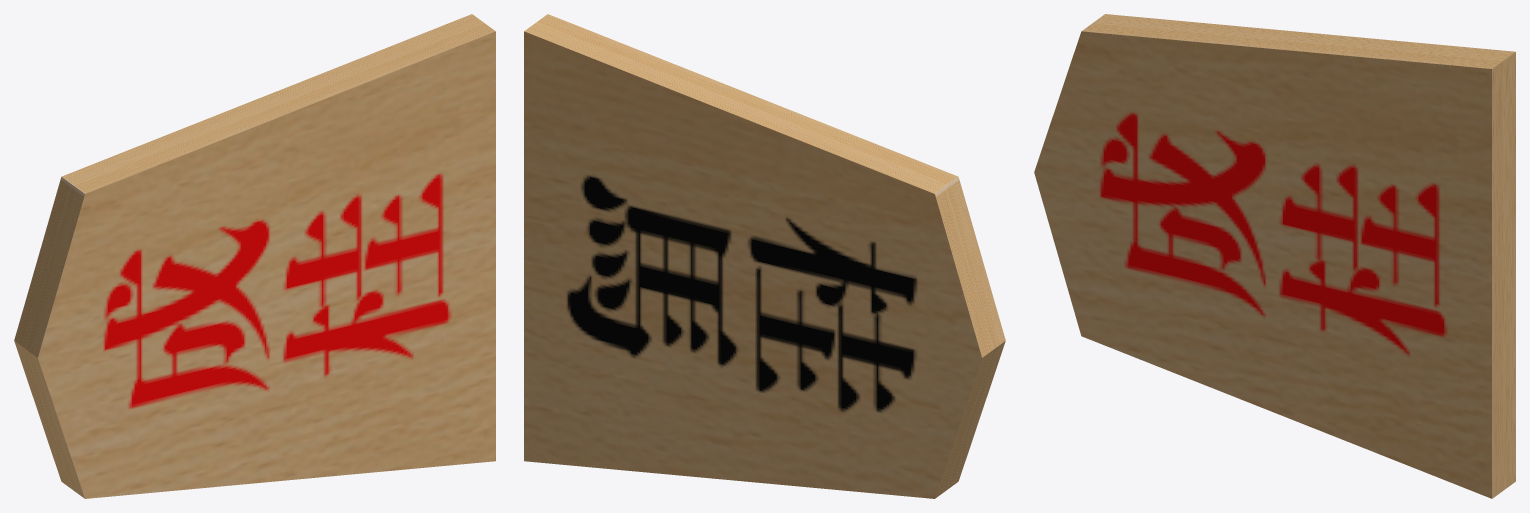
File: KomaBase 1.fbx
3 renders of one model, left to right at view 1: azimuth 30°, elevation 25°; view 2: azimuth 150°, elevation 25°; view 3: azimuth 330°, elevation 25°, orthographic.
Visible parts, largest first — view 1: Koma; view 2: Koma; view 3: Koma.
Boxes of the visible parts, left/top/right/bottom form: Koma: left=14, top=14, right=495, bottom=498; Koma: left=524, top=14, right=1005, bottom=498; Koma: left=1034, top=14, right=1515, bottom=498.
Bounding box in the file's own units: 0.2 × 2.23 × 2.
Materials: 1 (1 with a texture image).
